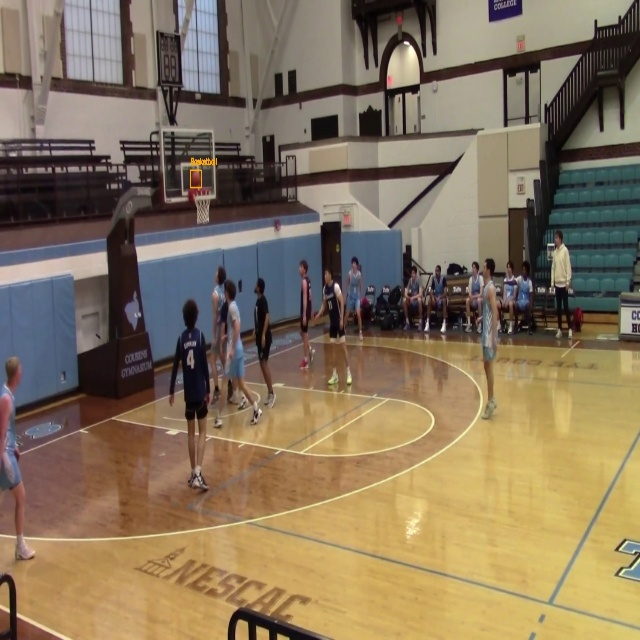Basketball: (190, 171, 201, 188)
